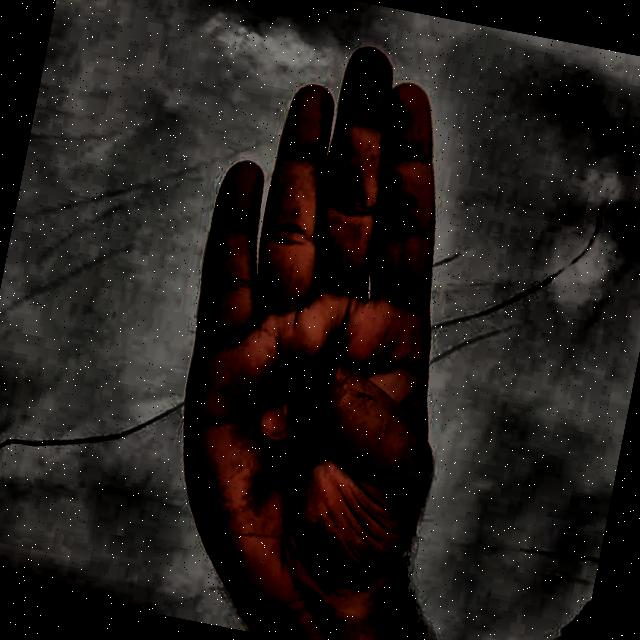Ba: (103, 0, 554, 640)
